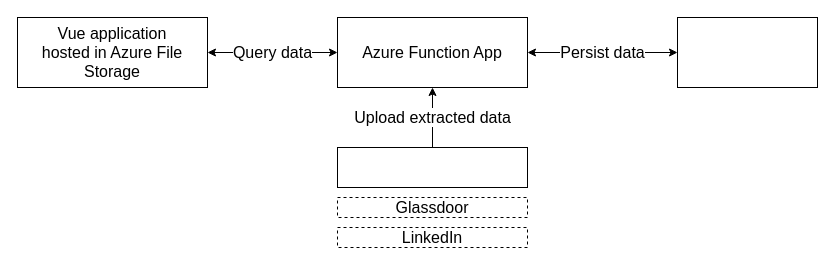
This 835x265 diagram has some shape labels left out. The shapes that lost their labels are listed below. From the top down, each one's centre as x and y in pixels, then its label:
At (747,52): "Azure Table Storage".
At (432,167): "Data Extraction Service".
